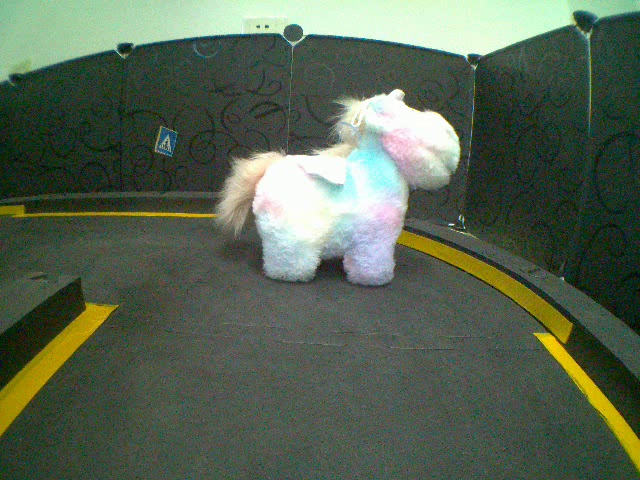unicorn: (221, 88, 464, 293)
